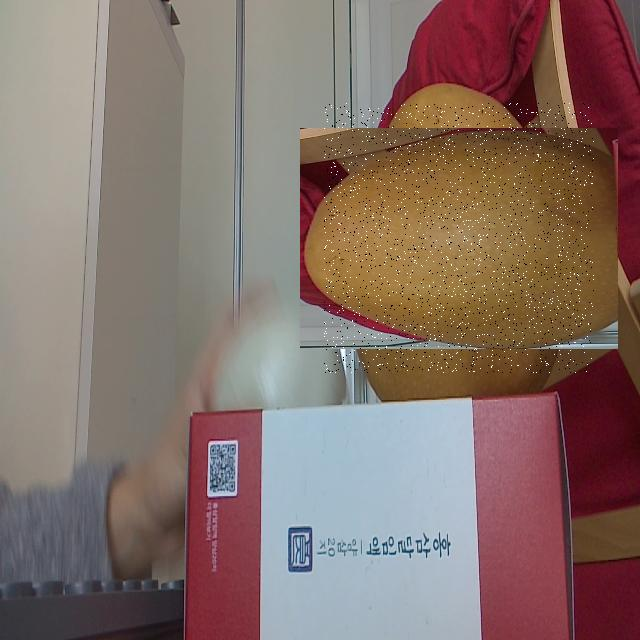pear: (324, 103, 594, 373)
